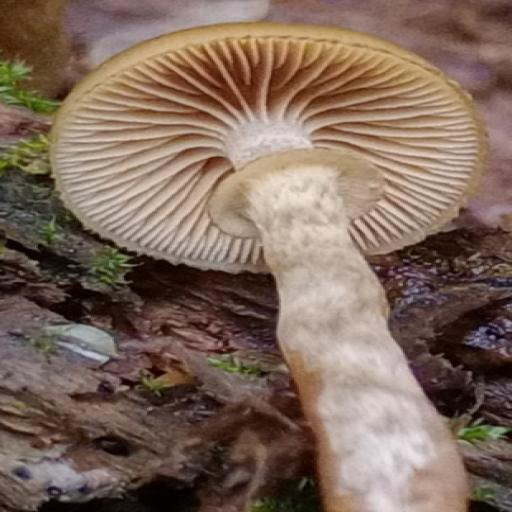mushroom: (42, 11, 492, 380)
